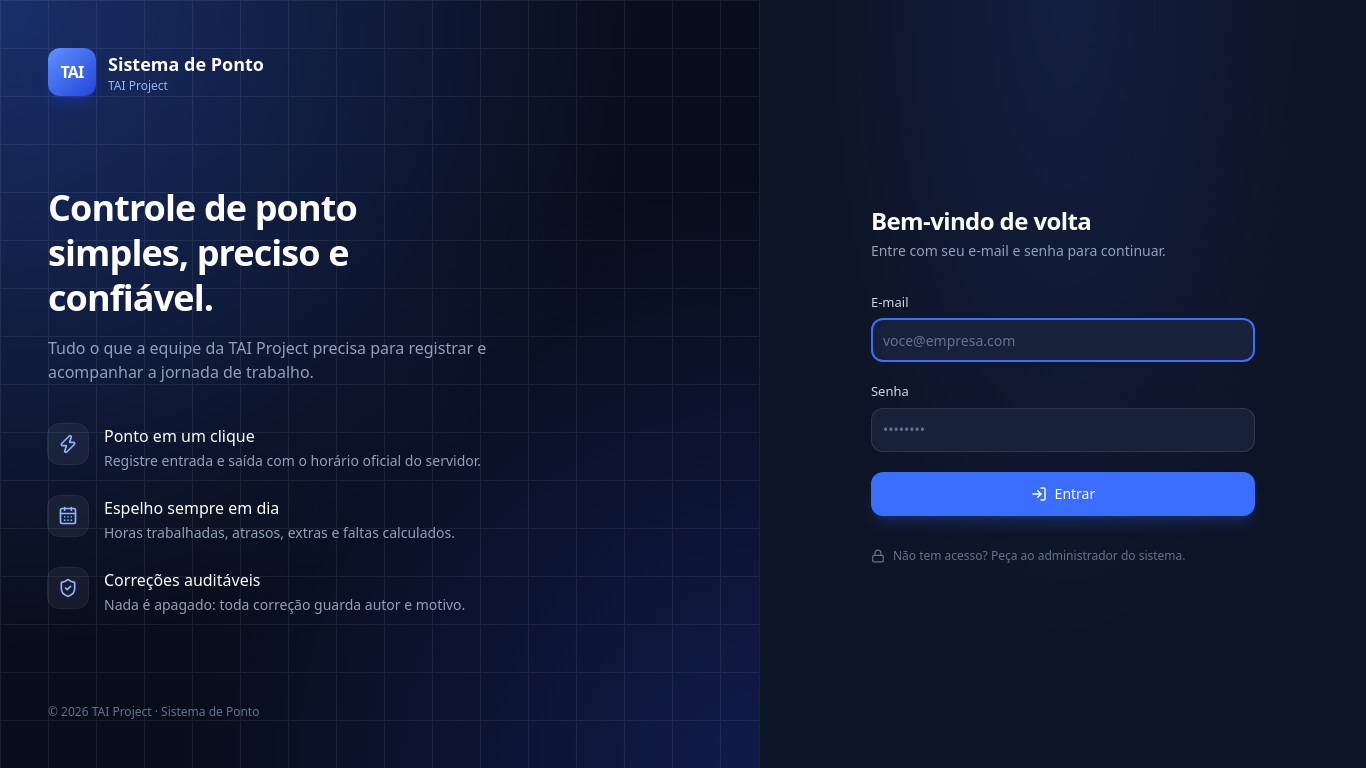
login › senha errada mostra o erro e continua no login
This screenshot has width=1366, height=768.
Type "teste@leo.com" into the field labelled "E-mail" at [1063, 340], box 871,318 -> 1255,362
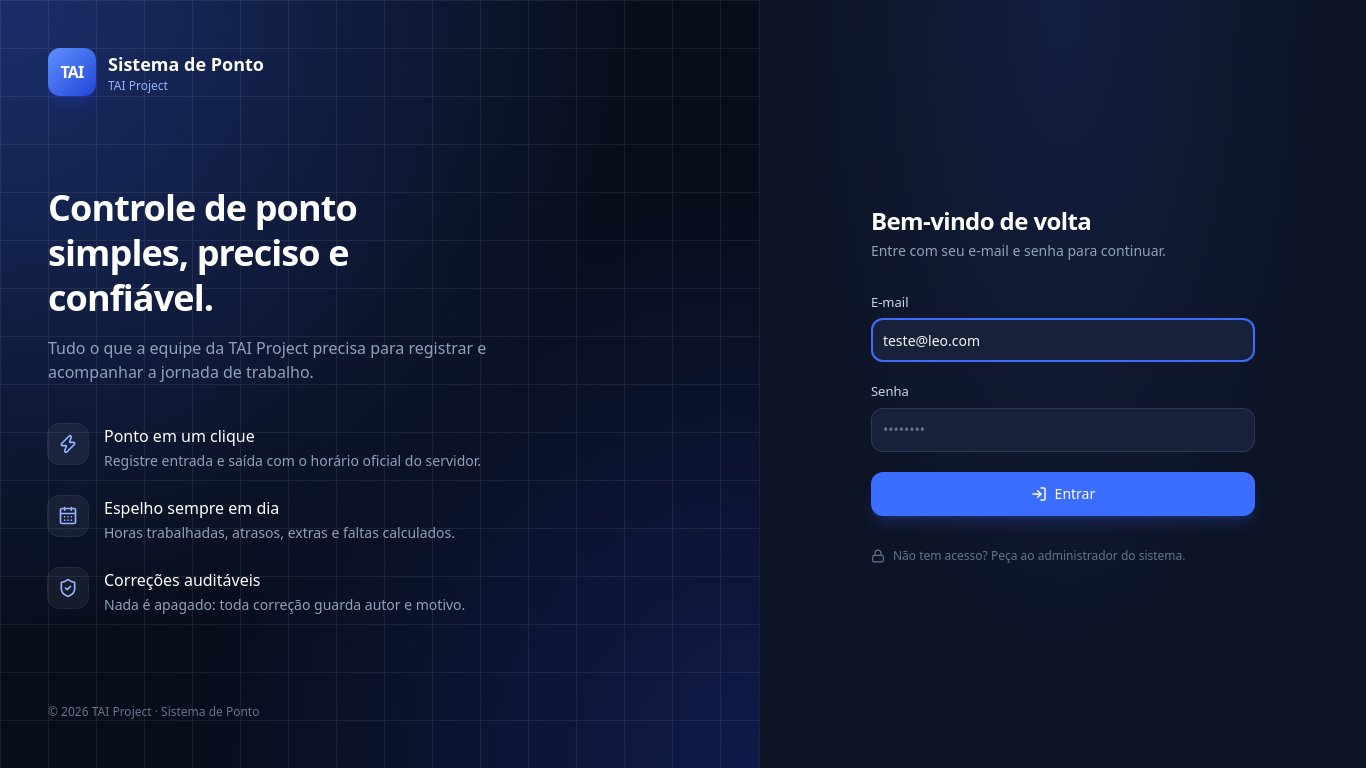
Type "errada123" into the password field labelled "Senha" at [1063, 430], box 871,408 -> 1255,452
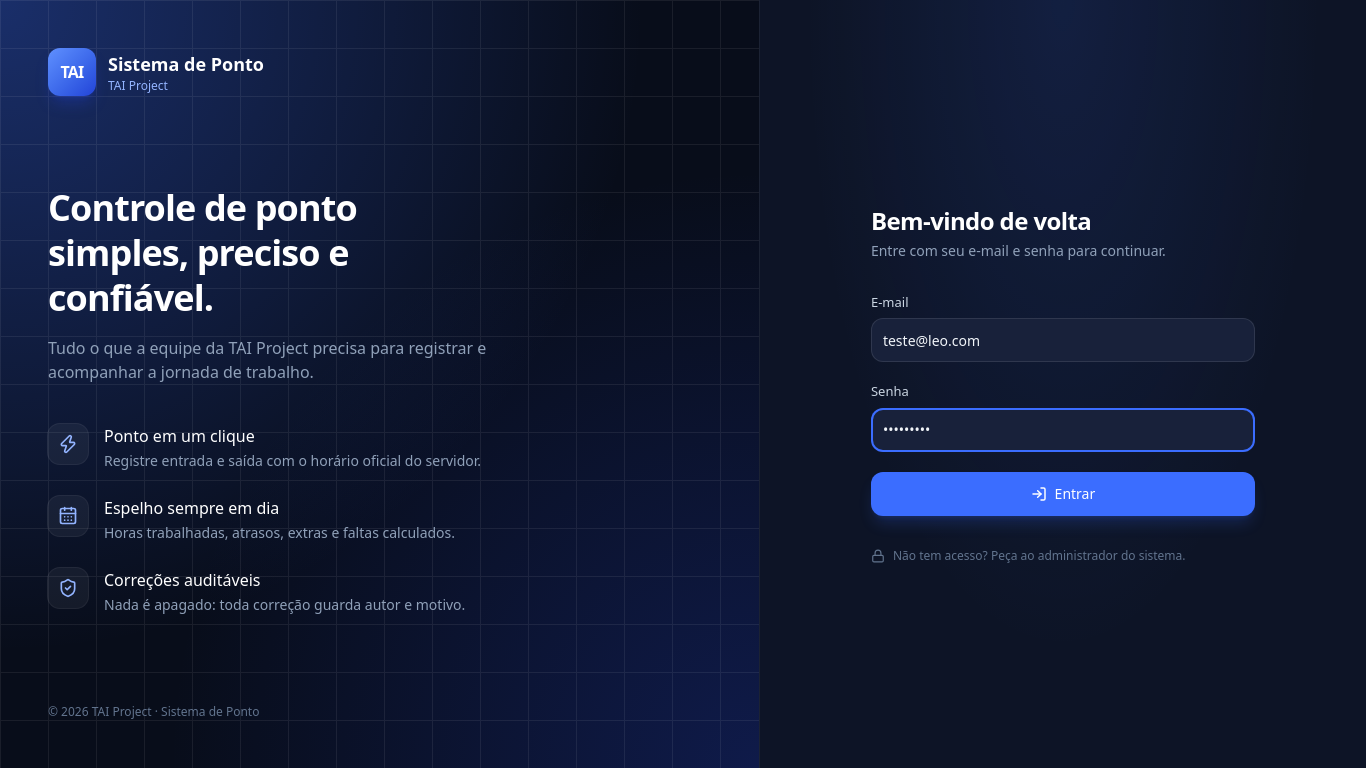
Click the button "Entrar" at [1063, 494], box 871,472 -> 1255,516
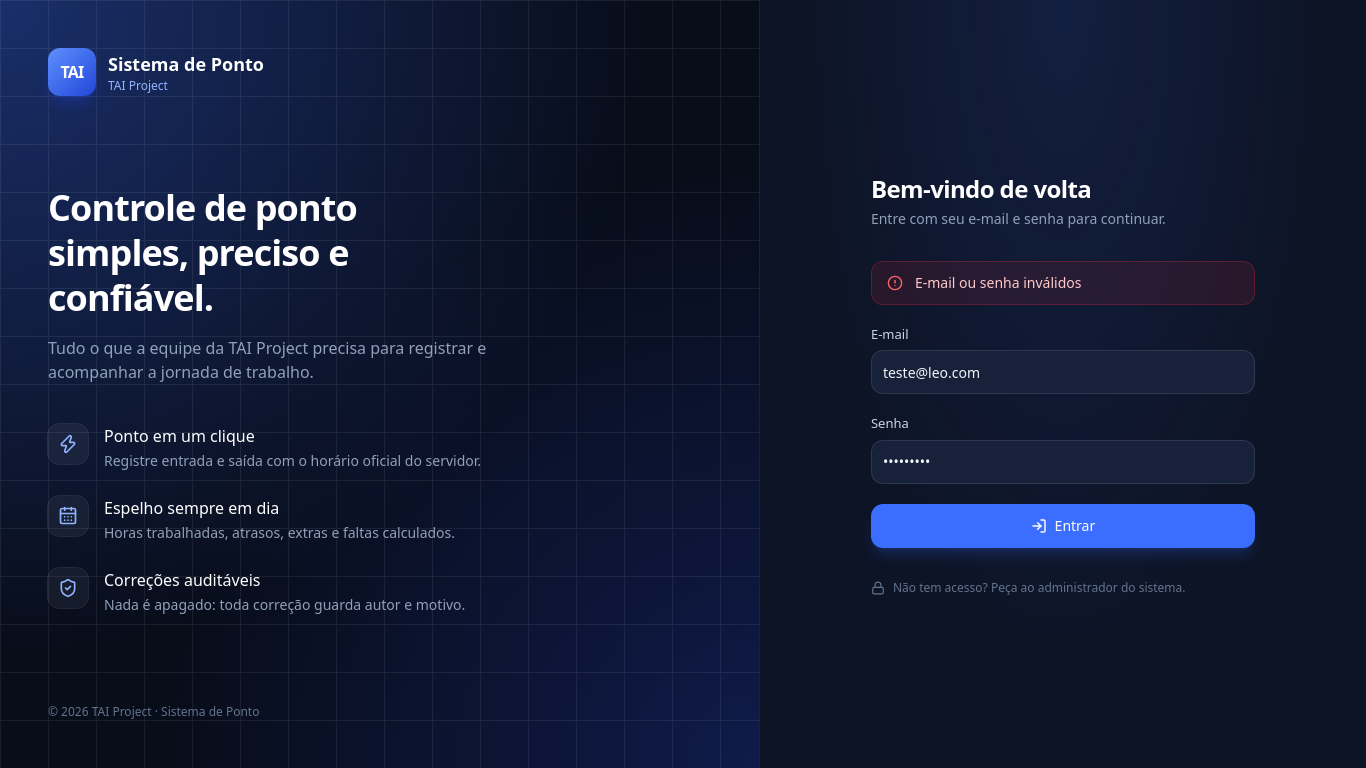
Check: the button "Entrar" is shown, box 871,504 -> 1255,548
Check: the text "E-mail ou senha inválidos" is shown, box 915,272 -> 1081,292
